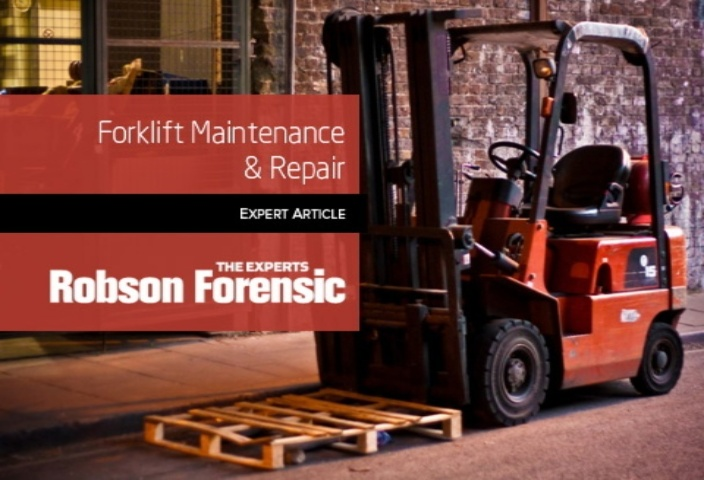truck: (320, 1, 684, 420)
